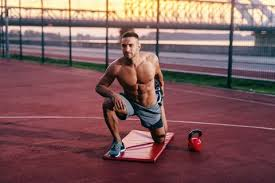white_male: (110, 31, 144, 64)
